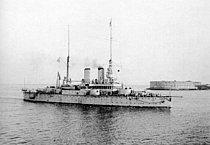Ship: (13, 33, 181, 109)
